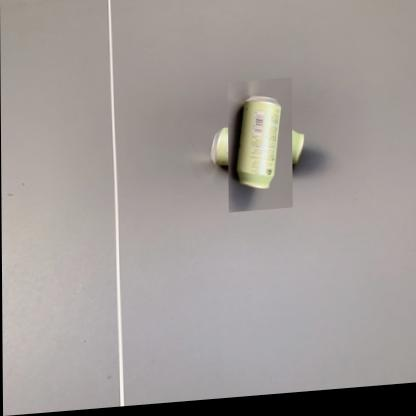trash: (235, 96, 281, 188), (237, 96, 280, 188), (210, 128, 228, 166), (292, 129, 303, 164)
